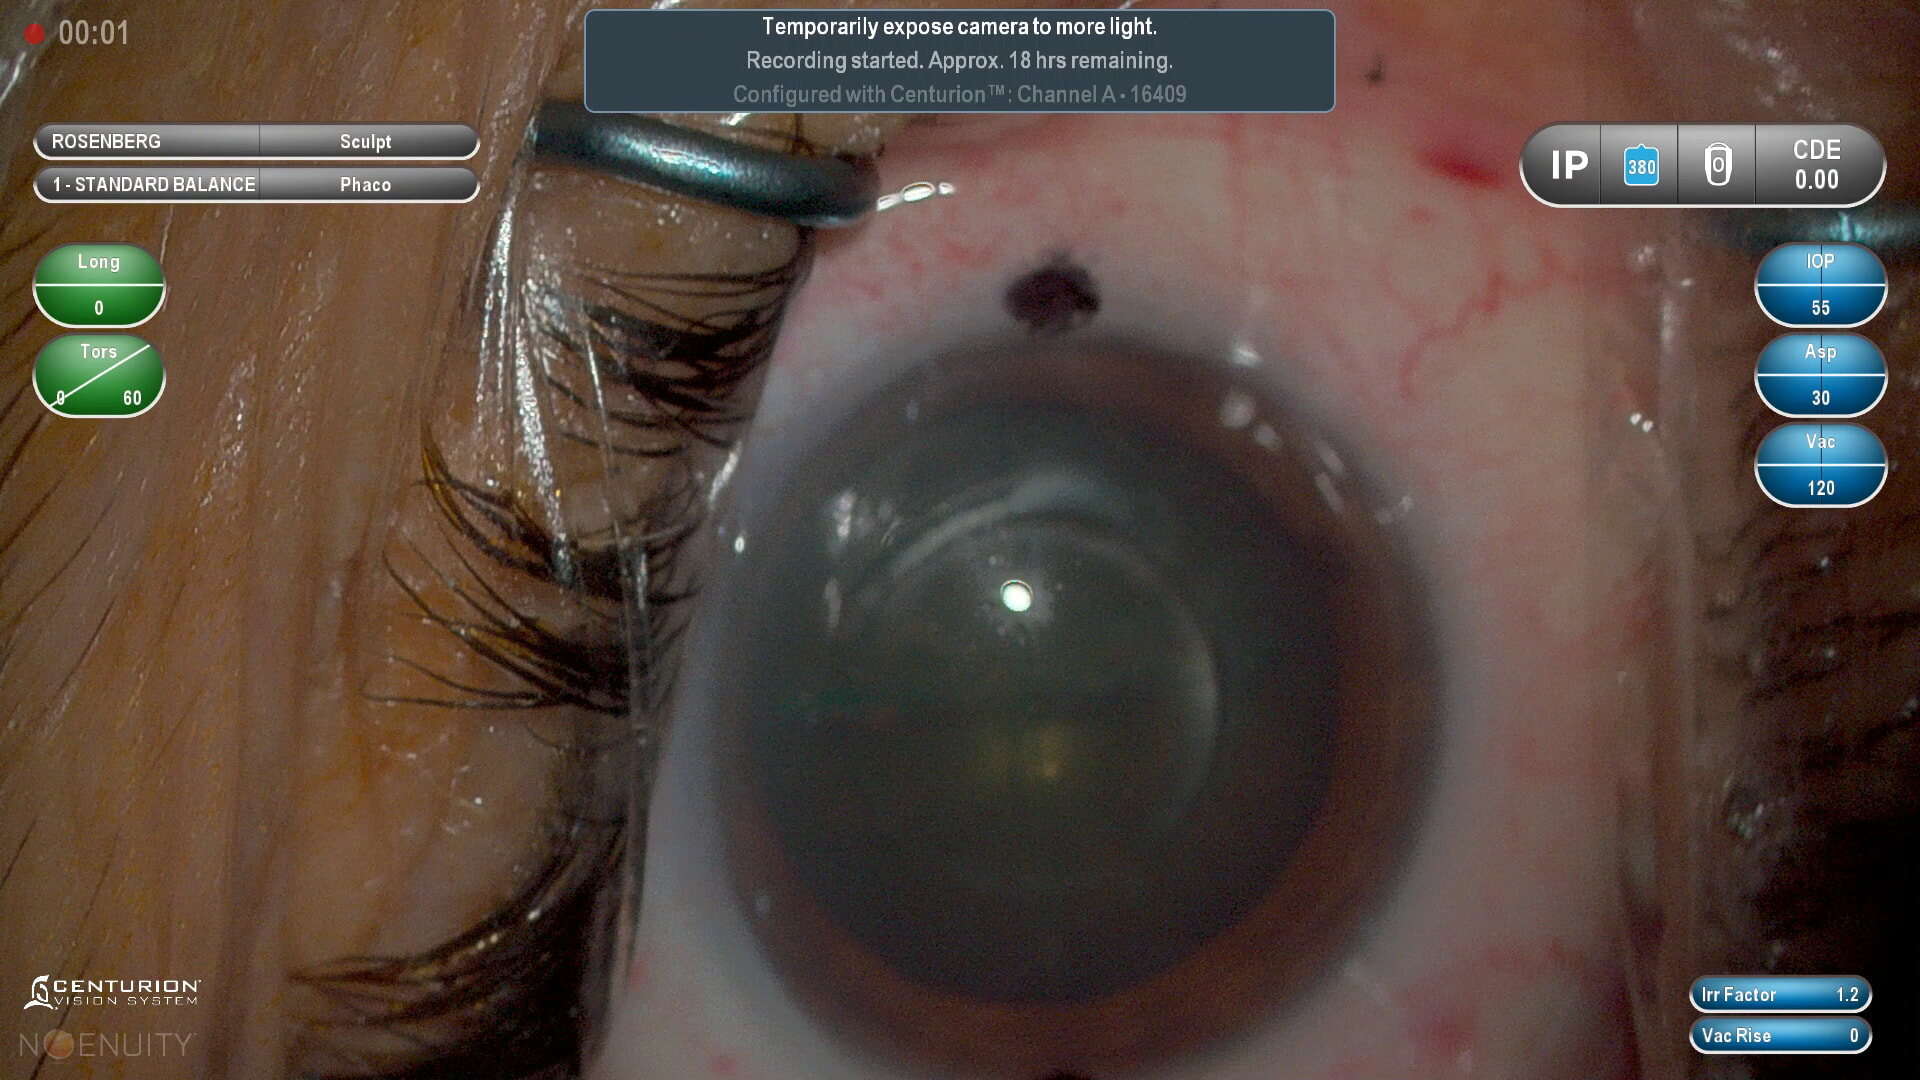iris: (710, 339, 1443, 1080)
pupil: (771, 414, 1344, 983)
